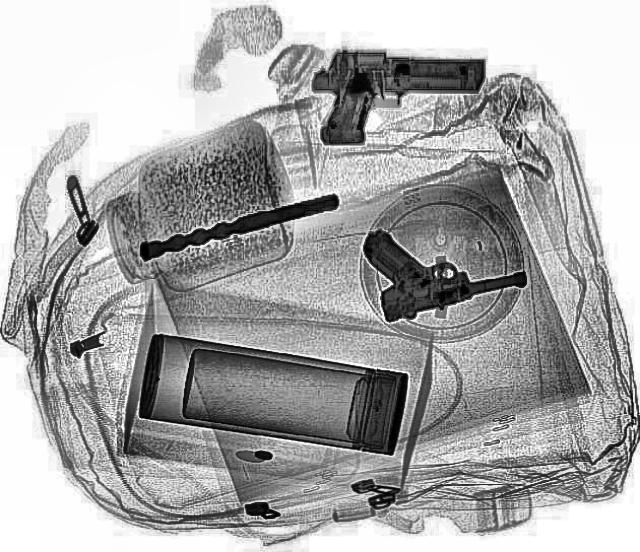Gun: (352, 200, 530, 322), (306, 45, 486, 149)
